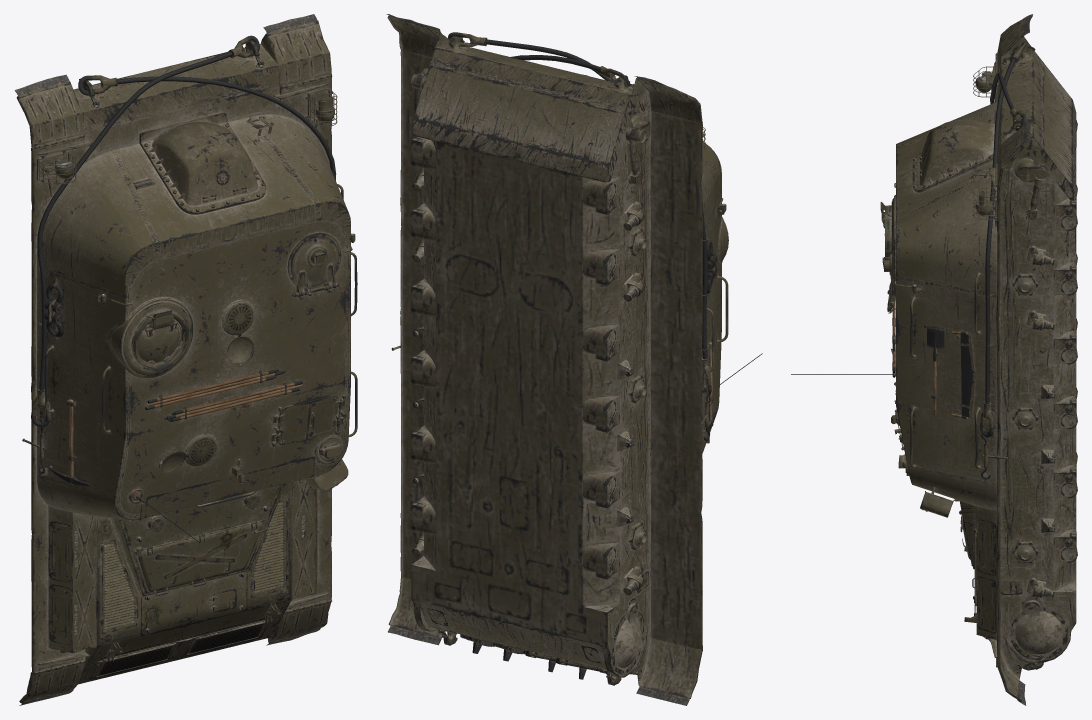
Rendered from Hull.glb.
3 views of the same model, side by side, from view 1: azimuth 30°, elevation 25°; view 2: azimuth 150°, elevation 25°; view 3: azimuth 270°, elevation 25° (orthographic). The views are drawn at different scales.
Visible parts, largest first — view 1: set_0_group_0; view 2: set_0_group_0; view 3: set_0_group_0.
Part boxes in pixels (bbox=[...]): set_0_group_0: bbox=[14, 14, 357, 705]; set_0_group_0: bbox=[386, 14, 762, 705]; set_0_group_0: bbox=[791, 14, 1077, 705].
Bounding box in the file's own units: 3.57 × 6.81 × 3.13.
Materials: 1 (1 with a texture image).
